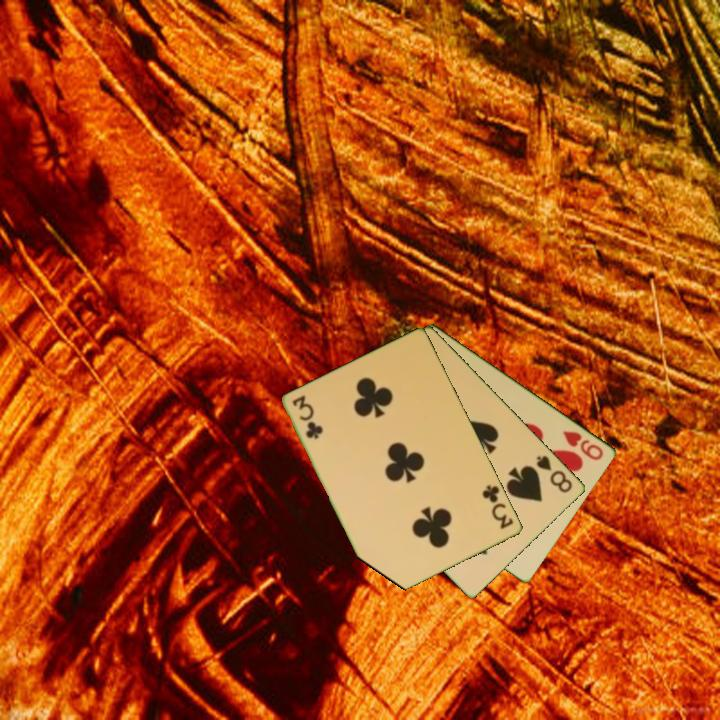3c: (479, 481, 517, 532), (289, 392, 325, 442)
8s: (533, 452, 576, 496)
9h: (559, 427, 607, 463)
